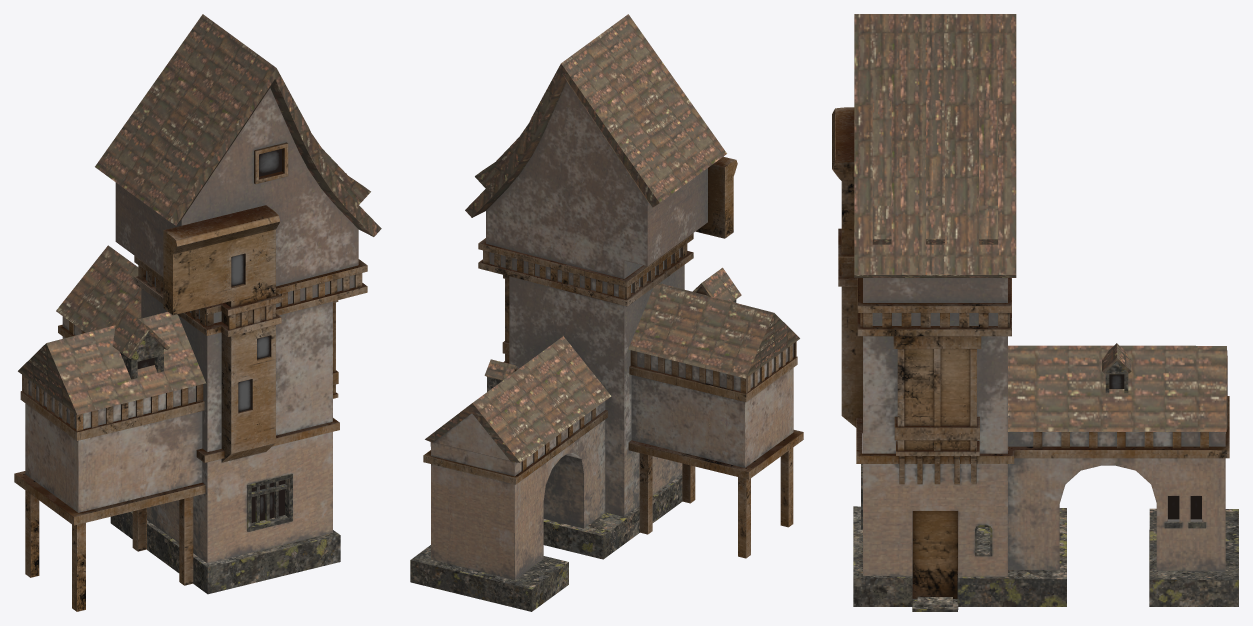
File: uploads_files_4078405_Medieval+Structure.fbx
The picture shows the model from 3 angles, left to right: view 1: azimuth 30°, elevation 25°; view 2: azimuth 150°, elevation 25°; view 3: azimuth 270°, elevation 25°; orthographic projection. The views are drawn at different scales.
Visible parts, largest first — view 1: Cube; view 2: Cube; view 3: Cube.
Boxes of the visible parts, x1,y1,x2,y2 form: Cube: [14, 14, 381, 611]; Cube: [410, 14, 803, 611]; Cube: [832, 14, 1238, 611].
Size of the model in its own units: 563 by 906 by 597.
